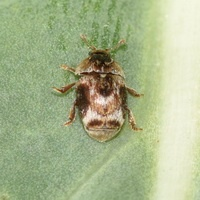insect: (52, 34, 142, 141)
